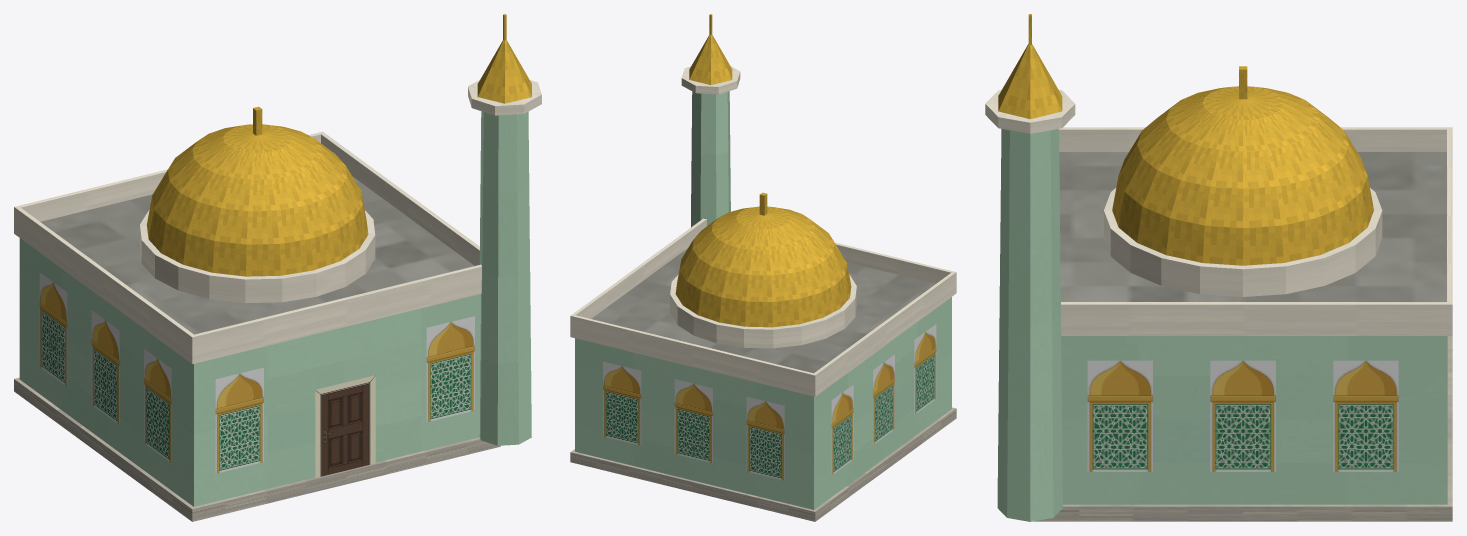
File: mosque-mint.glb
3 views of the same model, side by side, from view 1: azimuth 30°, elevation 25°; view 2: azimuth 150°, elevation 25°; view 3: azimuth 270°, elevation 25° (orthographic). The views are drawn at different scales.
Visible parts, largest first — view 1: mosque-mint; view 2: mosque-mint; view 3: mosque-mint.
Boxes of the visible parts, x1=… form: mosque-mint: x1=14, y1=14, x2=541, y2=521; mosque-mint: x1=570, y1=14, x2=956, y2=521; mosque-mint: x1=985, y1=14, x2=1452, y2=521.
Bounding box in the file's own units: 11.42 × 13.7 × 11.42.
1 material, 1 textured.
